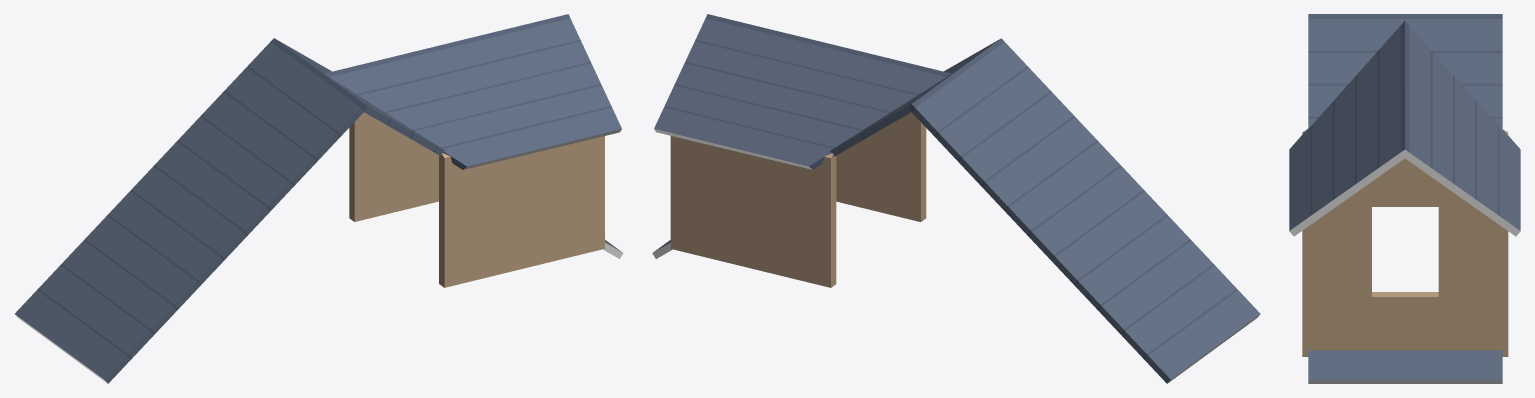
The model's file is Roof2_C4_05.fbx.
3 views of the same model, side by side, from view 1: azimuth 30°, elevation 25°; view 2: azimuth 150°, elevation 25°; view 3: azimuth 270°, elevation 25° (orthographic). The views are drawn at different scales.
Visible parts, largest first — view 1: Roof2_C4_05; view 2: Roof2_C4_05; view 3: Roof2_C4_05.
Boxes of the visible parts, x1,y1,x2,y2 form: Roof2_C4_05: [15, 14, 623, 383]; Roof2_C4_05: [652, 14, 1260, 383]; Roof2_C4_05: [1289, 14, 1520, 383].
Bounding box in the file's own units: 833 × 334 × 298.
